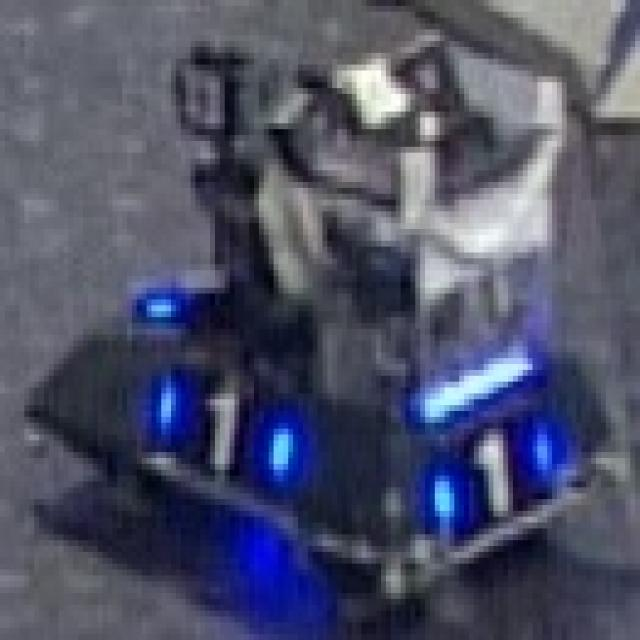B1: (146, 358, 303, 482), (415, 417, 557, 534)
